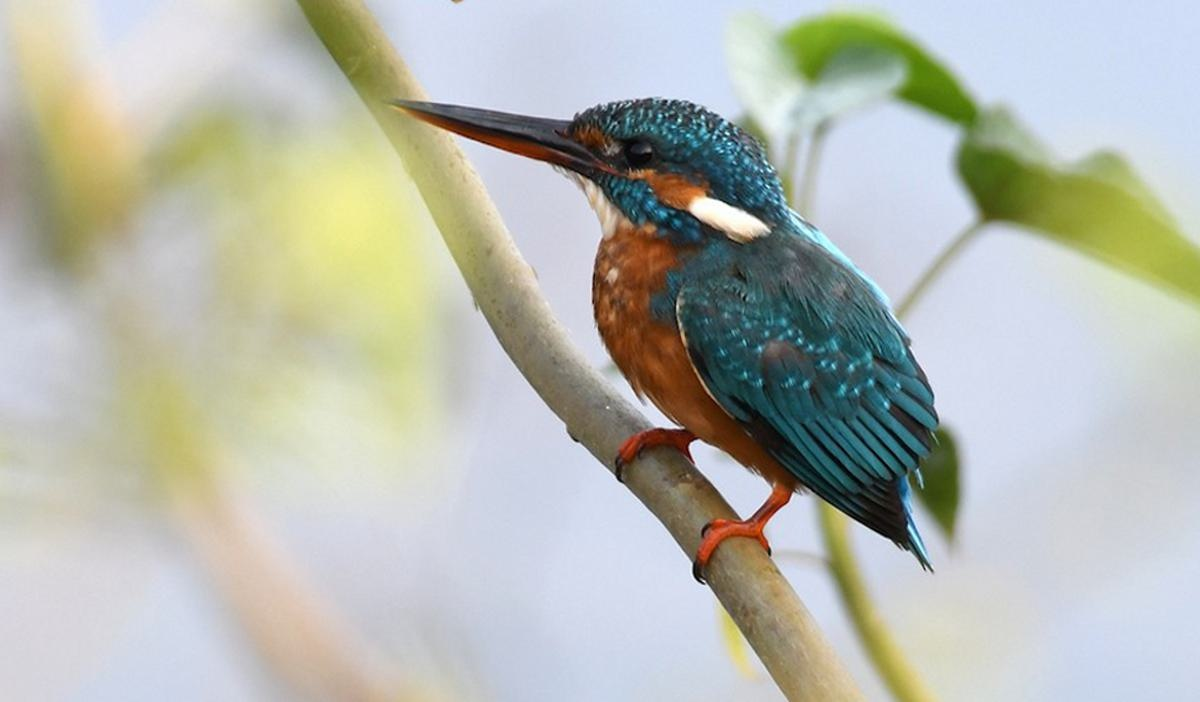kingfisher: (386, 82, 997, 637)
